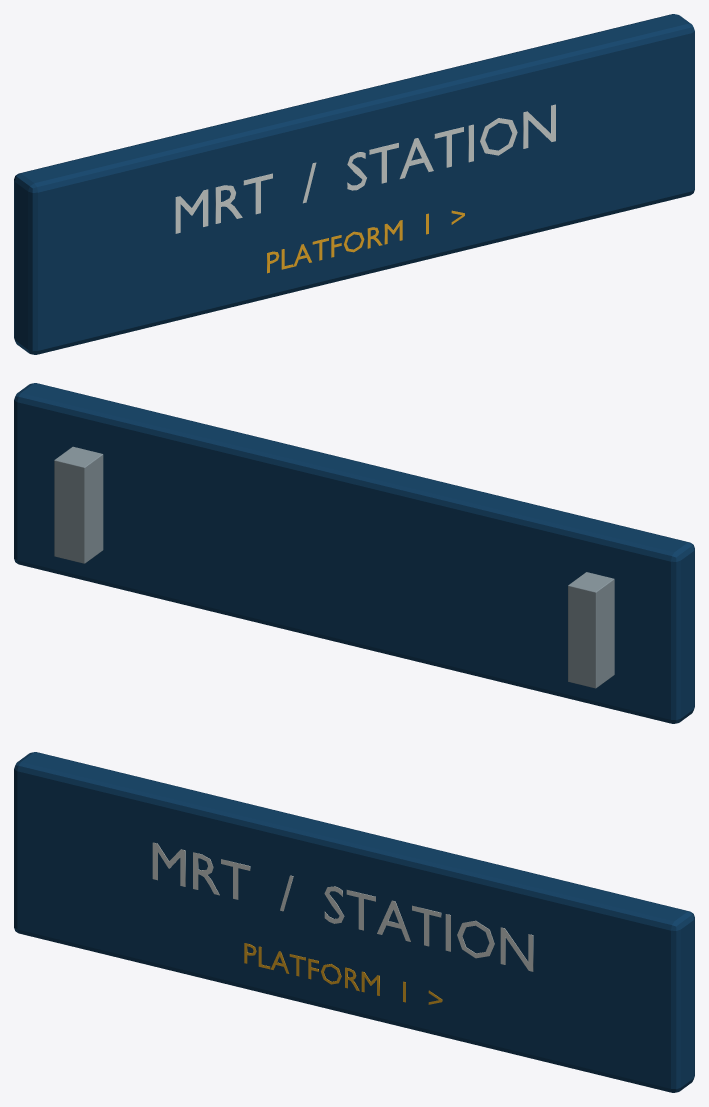
File: edited.glb
The picture shows the model from 3 angles, top to bottom: view 1: azimuth 30°, elevation 25°; view 2: azimuth 150°, elevation 25°; view 3: azimuth 330°, elevation 25°; orthographic projection.
Visible parts, largest first — view 1: SIGN_Housing, EDITABLE_Station, EDITABLE_Direction; view 2: SIGN_Housing, MOUNT_Bracket.001, MOUNT_Bracket; view 3: SIGN_Housing, EDITABLE_Station, EDITABLE_Direction.
Boxes of the visible parts, left/top/right/bottom form: SIGN_Housing: left=14, top=14, right=694, bottom=354; EDITABLE_Station: left=175, top=104, right=555, bottom=233; EDITABLE_Direction: left=267, top=210, right=464, bottom=273; SIGN_Housing: left=14, top=383, right=694, bottom=723; MOUNT_Bracket.001: left=54, top=446, right=103, bottom=563; MOUNT_Bracket: left=568, top=572, right=614, bottom=688; SIGN_Housing: left=14, top=752, right=694, bottom=1092; EDITABLE_Station: left=152, top=842, right=533, bottom=971; EDITABLE_Direction: left=244, top=943, right=442, bottom=1004.
Size of the model in its own units: 2.6 by 0.64 by 0.2728.
